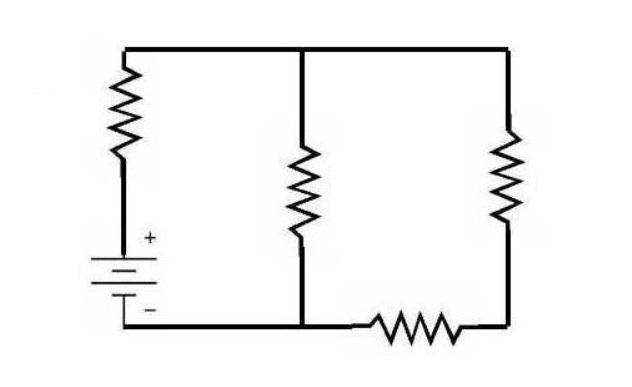resistor: (276, 128, 334, 246), (96, 51, 153, 167)
